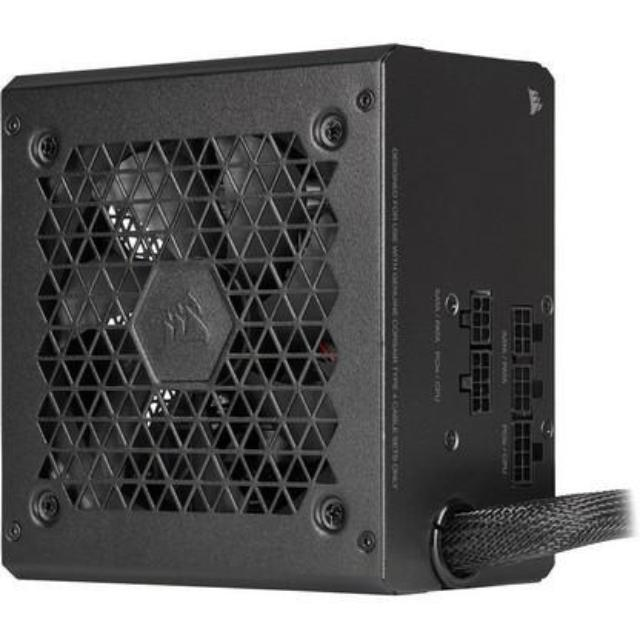PSU: (0, 36, 563, 594)
